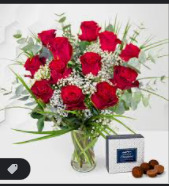RedRose: (56, 79, 85, 111), (91, 79, 117, 112), (112, 64, 140, 90), (30, 79, 59, 103), (79, 49, 104, 75), (48, 57, 75, 81), (78, 18, 103, 43), (23, 52, 46, 77), (119, 43, 143, 65), (51, 37, 71, 60), (101, 30, 121, 52), (36, 27, 57, 47)
